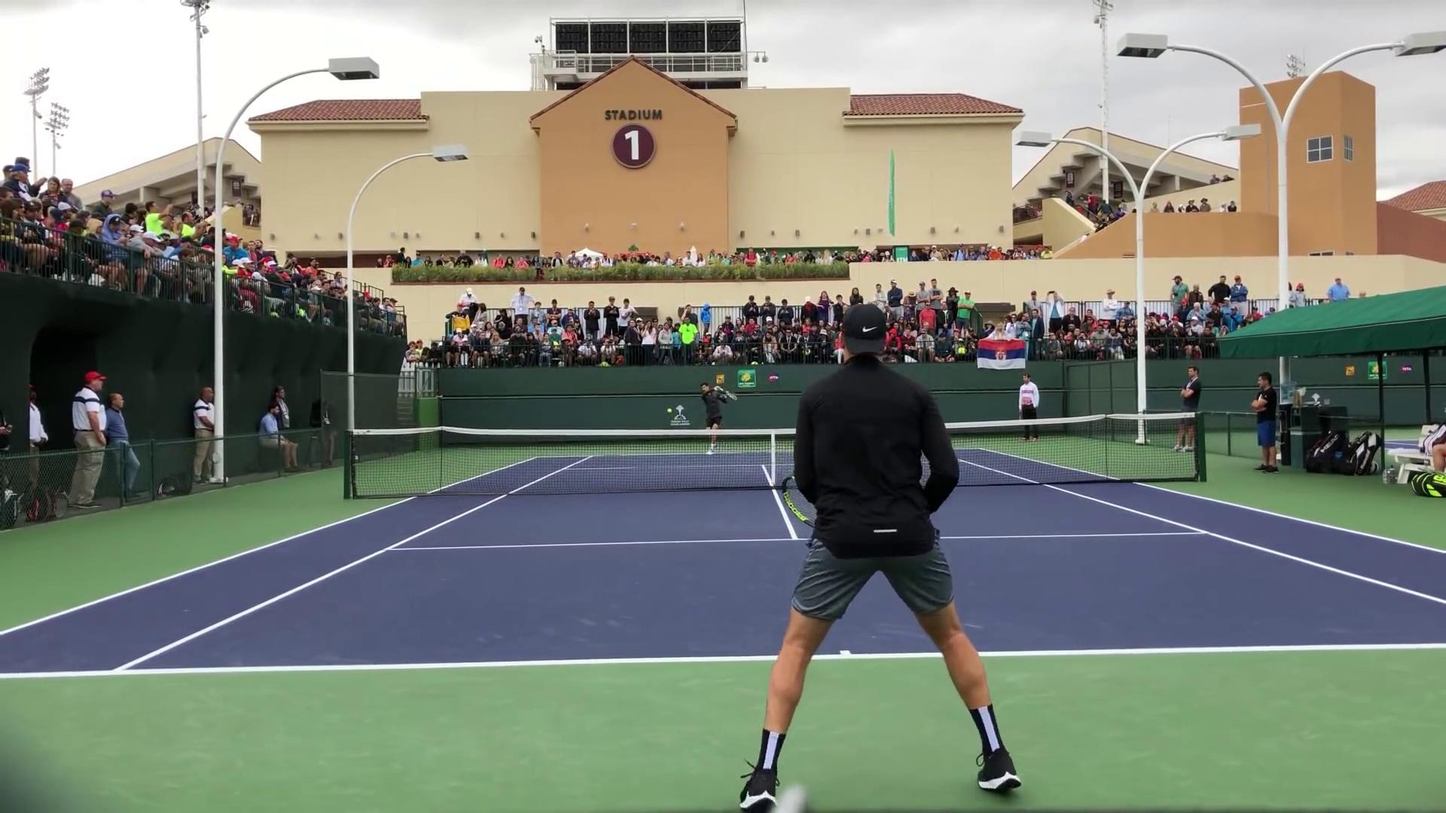ball: (664, 406, 675, 414)
